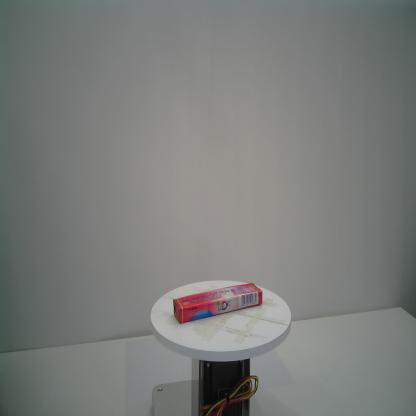Candy: (173, 282, 263, 324)
